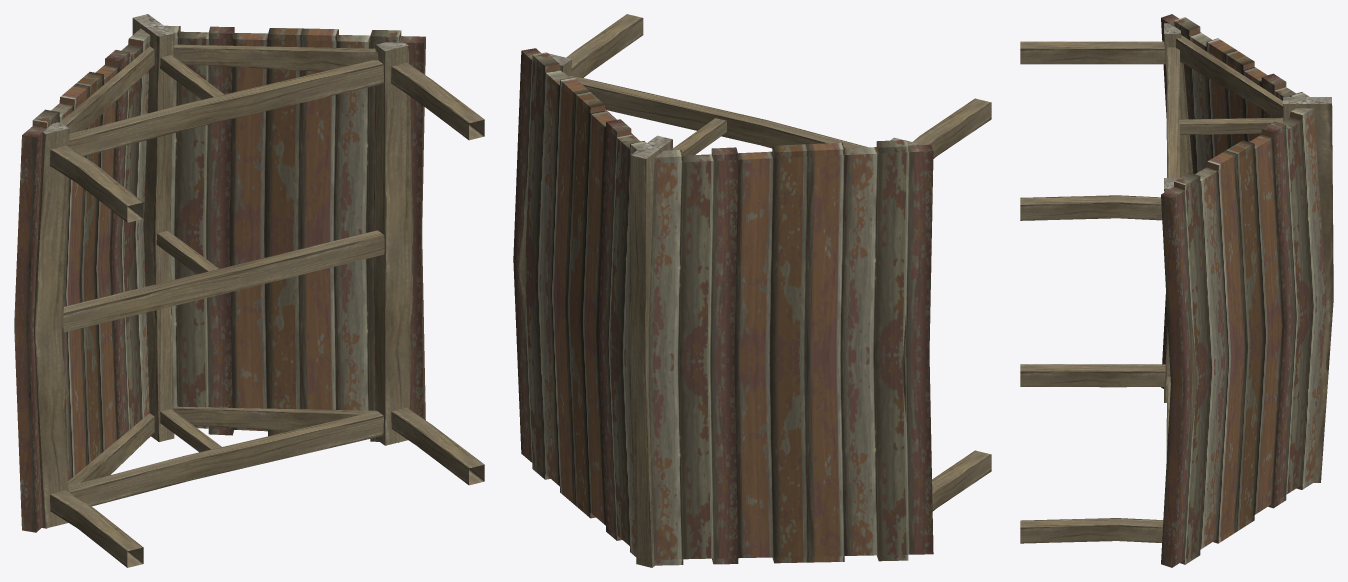
File: Tent_B.fbx
3 views of the same model, side by side, from view 1: azimuth 30°, elevation 25°; view 2: azimuth 150°, elevation 25°; view 3: azimuth 270°, elevation 25° (orthographic). The views are drawn at different scales.
Parts seen in each view (by area): view 1: Tent_B; view 2: Tent_B; view 3: Tent_B.
Part boxes in pixels (x1=…): Tent_B: x1=14, y1=14, x2=484, y2=567; Tent_B: x1=513, y1=14, x2=991, y2=567; Tent_B: x1=1020, y1=14, x2=1333, y2=567.
Bounding box in the file's own units: 8.17 × 7.79 × 5.81.
